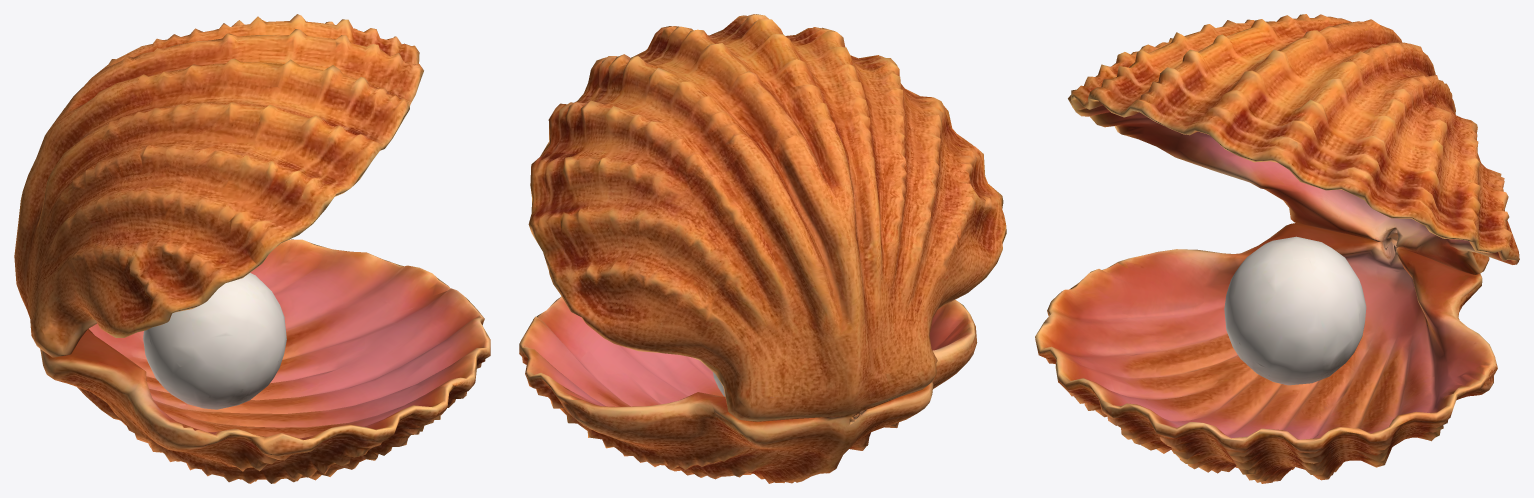
File: muschel.glb
The picture shows the model from 3 angles, left to right: view 1: azimuth 30°, elevation 25°; view 2: azimuth 150°, elevation 25°; view 3: azimuth 270°, elevation 25°; orthographic projection. The views are drawn at different scales.
Visible parts, largest first — view 1: tripo_node_a08a3546-aeff-4e9c-9baf-7f90ee746a94; view 2: tripo_node_a08a3546-aeff-4e9c-9baf-7f90ee746a94; view 3: tripo_node_a08a3546-aeff-4e9c-9baf-7f90ee746a94.
Part boxes in pixels (x1,y1,x2,y2): tripo_node_a08a3546-aeff-4e9c-9baf-7f90ee746a94: (14, 14, 490, 483); tripo_node_a08a3546-aeff-4e9c-9baf-7f90ee746a94: (519, 14, 1006, 483); tripo_node_a08a3546-aeff-4e9c-9baf-7f90ee746a94: (1035, 14, 1519, 483).
Bounding box in the file's own units: 0.2071 × 0.2 × 0.2107.
1 material, 1 textured.
